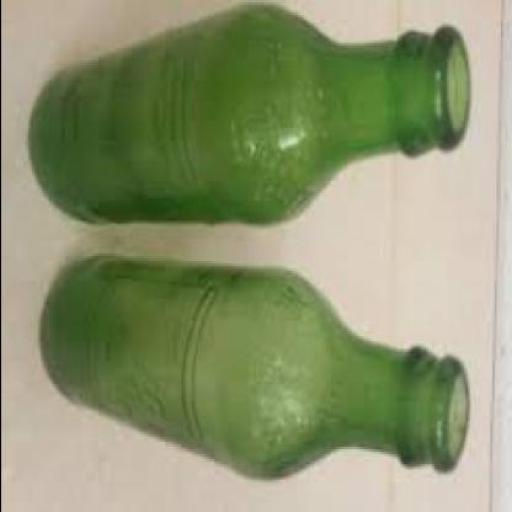glass: (40, 253, 470, 482), (30, 2, 470, 224)
